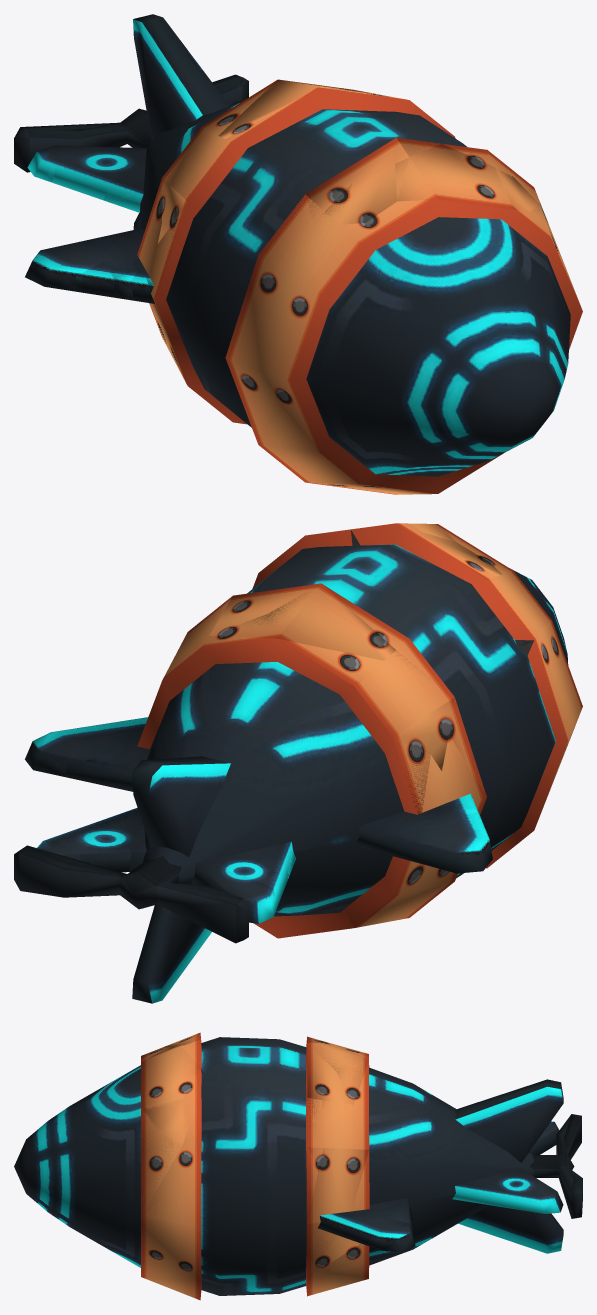
File: DDT.fbx
The picture shows the model from 3 angles, top to bottom: view 1: azimuth 30°, elevation 25°; view 2: azimuth 150°, elevation 25°; view 3: azimuth 270°, elevation 25°; orthographic projection. The views are drawn at different scales.
Parts seen in each view (by area): view 1: Body, Fortification, Fortification4, Fortification2, FinRightDamage, BrokenPropeller, FinRight, Fortification3, Body3, Fortification1, Propeller; view 2: Body, Fortification, Fortification1, Fortification4, FinRight, BrokenPropeller, Fortification2, Fortification3, Propeller, FinRightDamage, Body2, Body3 (+1 smaller); view 3: Body, Fortification, Fortification2, Fortification4, Fortification3, Fortification1, Body1, BrokenPropeller, Propeller, Body2.
Part boxes in pixels (x1,y1,x2,y2): Body: (27,14,570,476); Fortification: (137,80,582,494); Fortification4: (191,79,513,255); Fortification2: (259,85,437,259); FinRightDamage: (41,228,154,302); BrokenPropeller: (14,74,248,172); FinRight: (25,228,154,303); Fortification3: (137,168,550,296); Body3: (35,145,145,212); Fortification1: (204,87,581,307); Propeller: (20,78,243,130); Body: (25,544,568,1003); Fortification: (162,523,582,938); Fortification1: (137,638,417,927); Fortification4: (209,523,533,694); FinRight: (354,793,492,873); BrokenPropeller: (14,845,248,943); Fortification2: (209,523,502,638); Fortification3: (393,697,486,814); Propeller: (28,845,242,943); FinRightDamage: (360,797,488,851); Body2: (45,808,146,871); Body3: (199,843,295,915); Body: (14,1037,563,1295); Fortification: (141,1036,369,1300); Fortification2: (143,1032,369,1277); Fortification4: (141,1040,368,1222); Fortification3: (141,1100,367,1280); Fortification1: (141,1040,369,1222); Body1: (322,1199,415,1244); BrokenPropeller: (530,1114,582,1218); Propeller: (558,1114,581,1218); Body2: (457,1177,548,1199).
Bounding box in the file's own units: 35.34 × 26.31 × 53.46.
